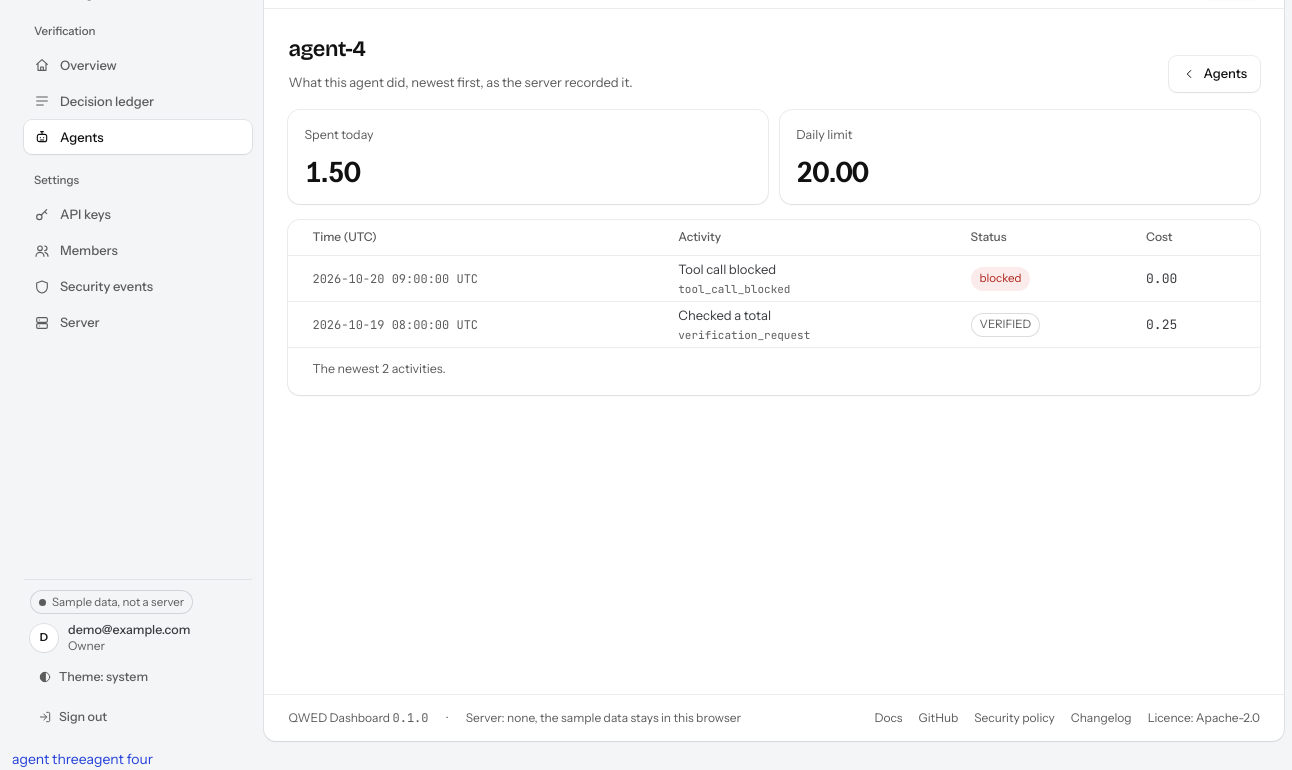
it: AgentPage › carries no refusal over to another agent’s cached activity
(page scrolled)
Check: the heading "agent-4" is shown, box top-left (288, 36), bottom-right (366, 62)
Click the link "agent three" at {"x": 49, "y": 759}, box top-left (12, 750), bottom-right (86, 768)
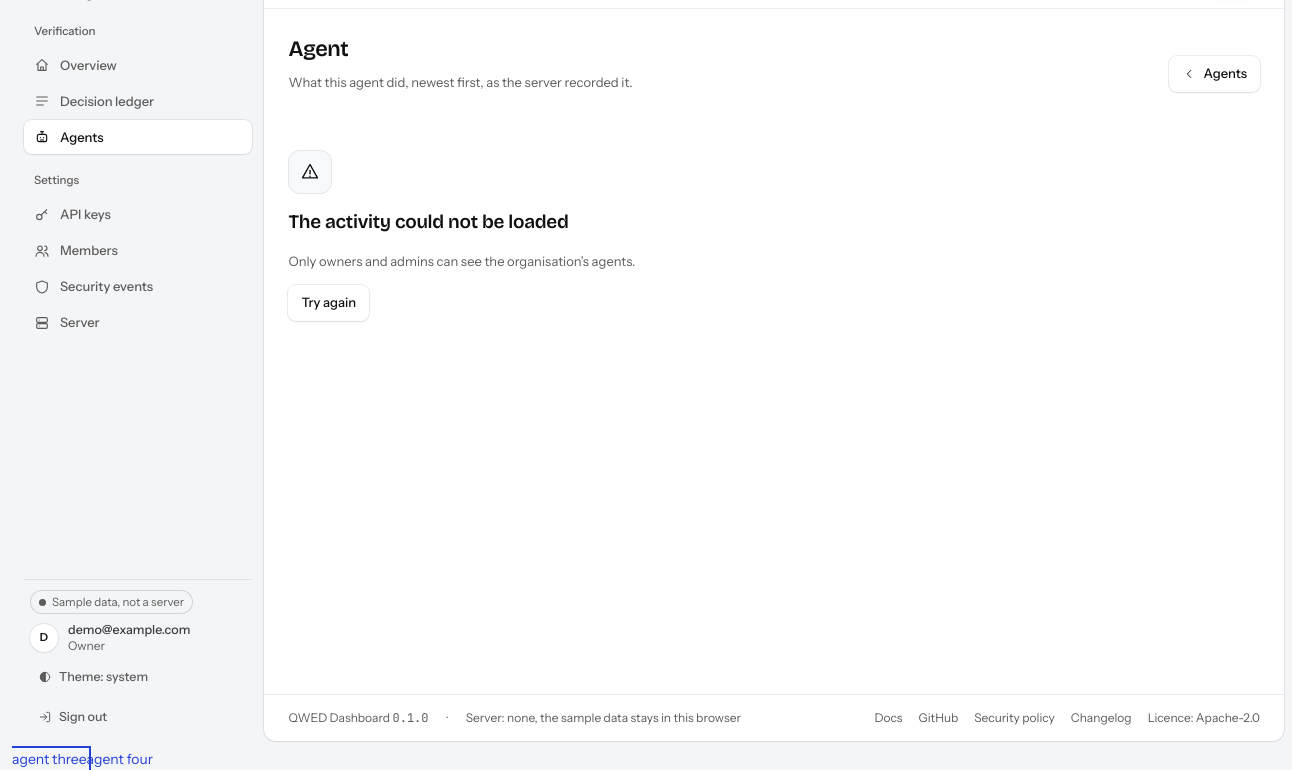
Check: the text "Only owners and admins can see the organisation’s agents." is shown, box top-left (288, 253), bottom-right (635, 269)
Click the link "agent four" at {"x": 120, "y": 759}, box top-left (86, 750), bottom-right (153, 768)
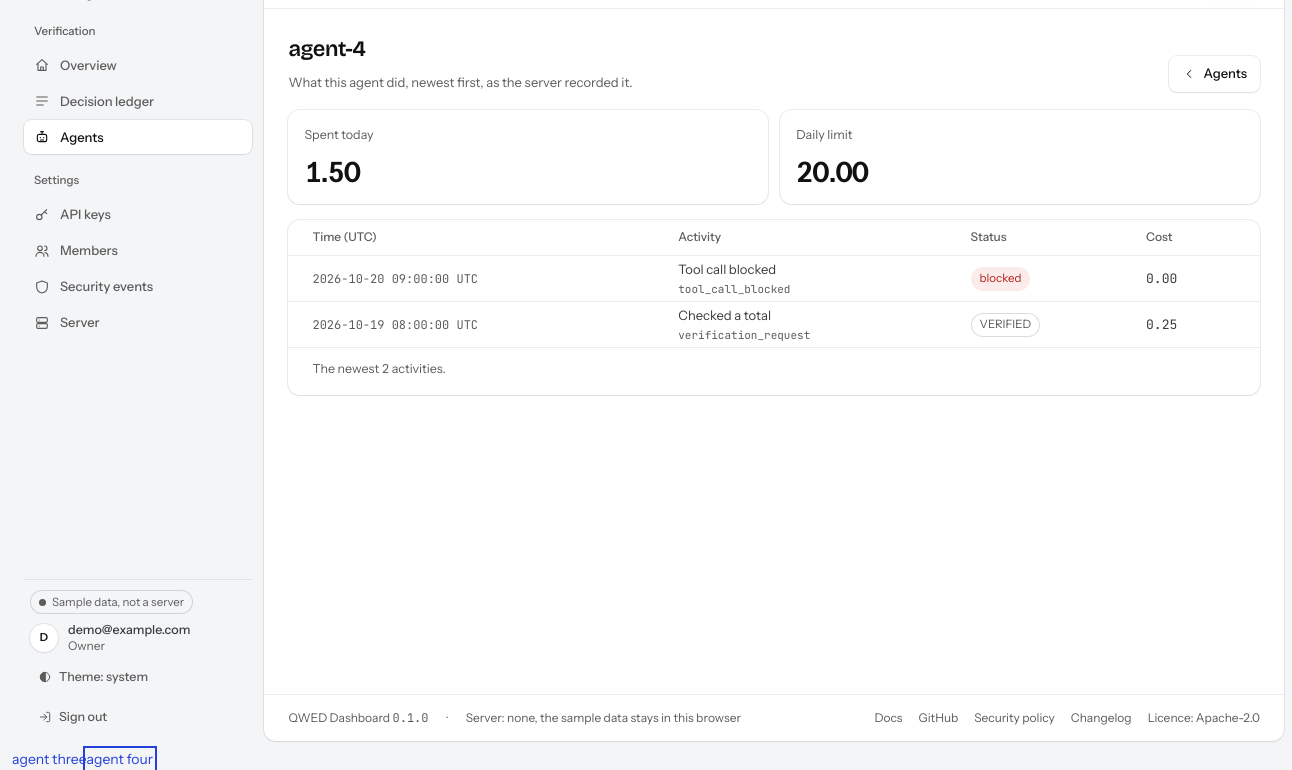
Check: the heading "agent-4" is shown, box top-left (288, 36), bottom-right (366, 62)
Check: the text "Only owners and admins" is gone
